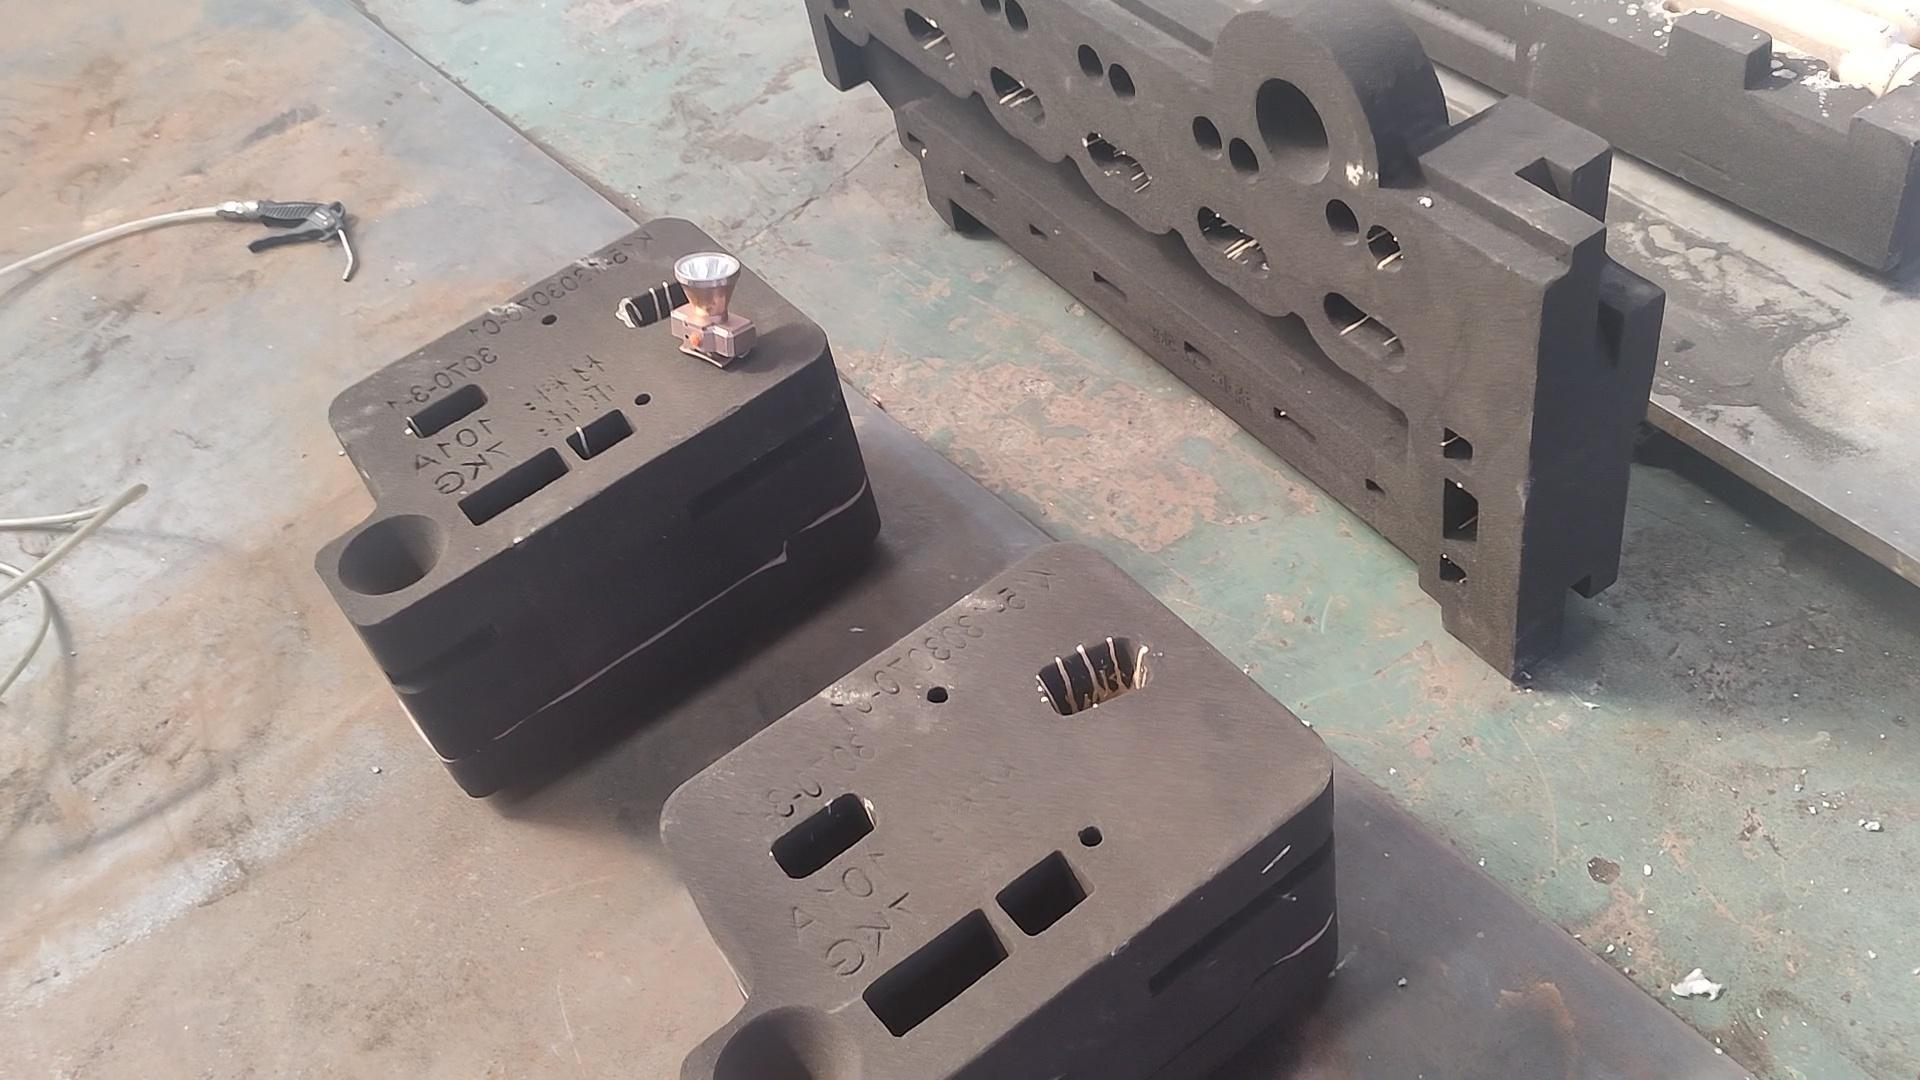pouring hole: (709, 1005, 860, 1080), (339, 512, 443, 596), (1258, 76, 1329, 185)
